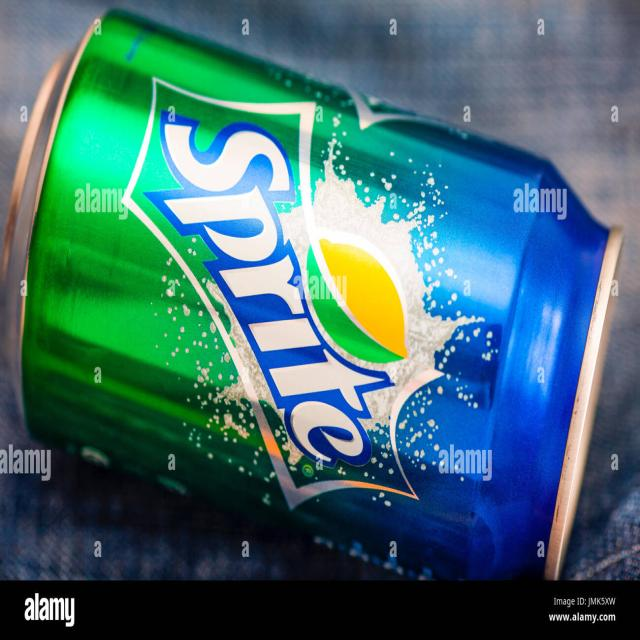sprite: (10, 12, 604, 593)
